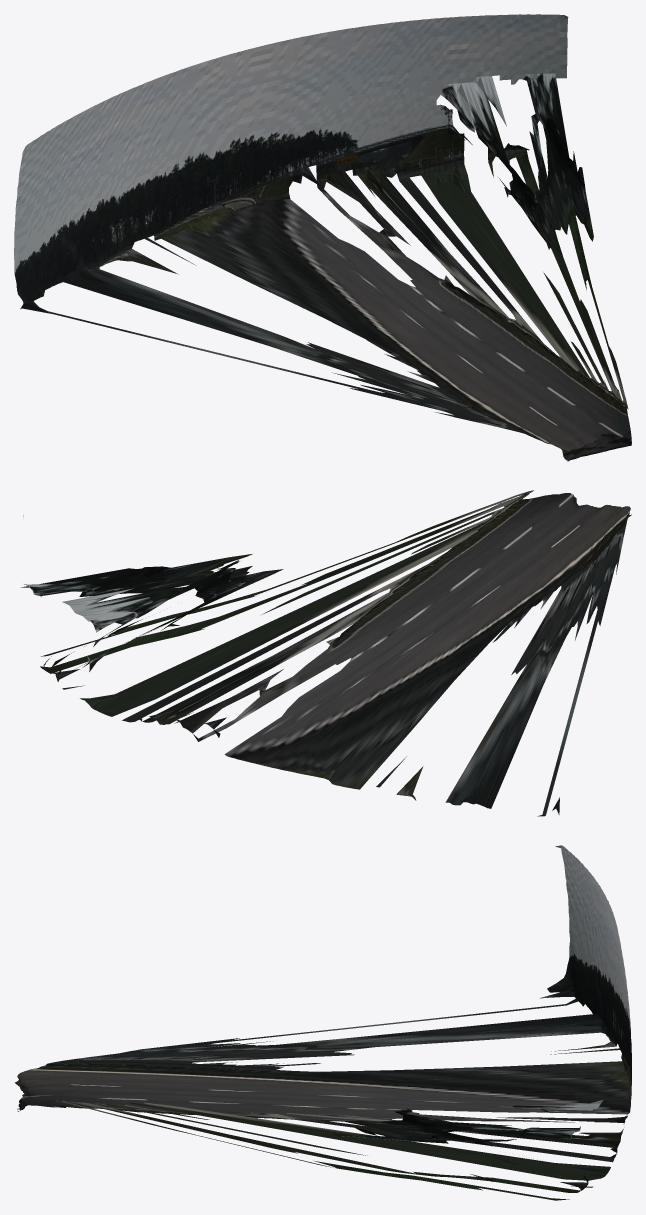
3 renders of one model, top to bottom at view 1: azimuth 30°, elevation 25°; view 2: azimuth 150°, elevation 25°; view 3: azimuth 270°, elevation 25°, orthographic. The views are drawn at different scales.
Visible parts, largest first — view 1: defaultobject; view 2: defaultobject; view 3: defaultobject.
Part boxes in pixels (x1=…): defaultobject: x1=14, y1=14, x2=631, y2=461; defaultobject: x1=20, y1=490, x2=631, y2=816; defaultobject: x1=15, y1=845, x2=631, y2=1200.
Bounding box in the file's own units: 41.09 × 12.87 × 44.49.
Materials: 1 (1 with a texture image).
